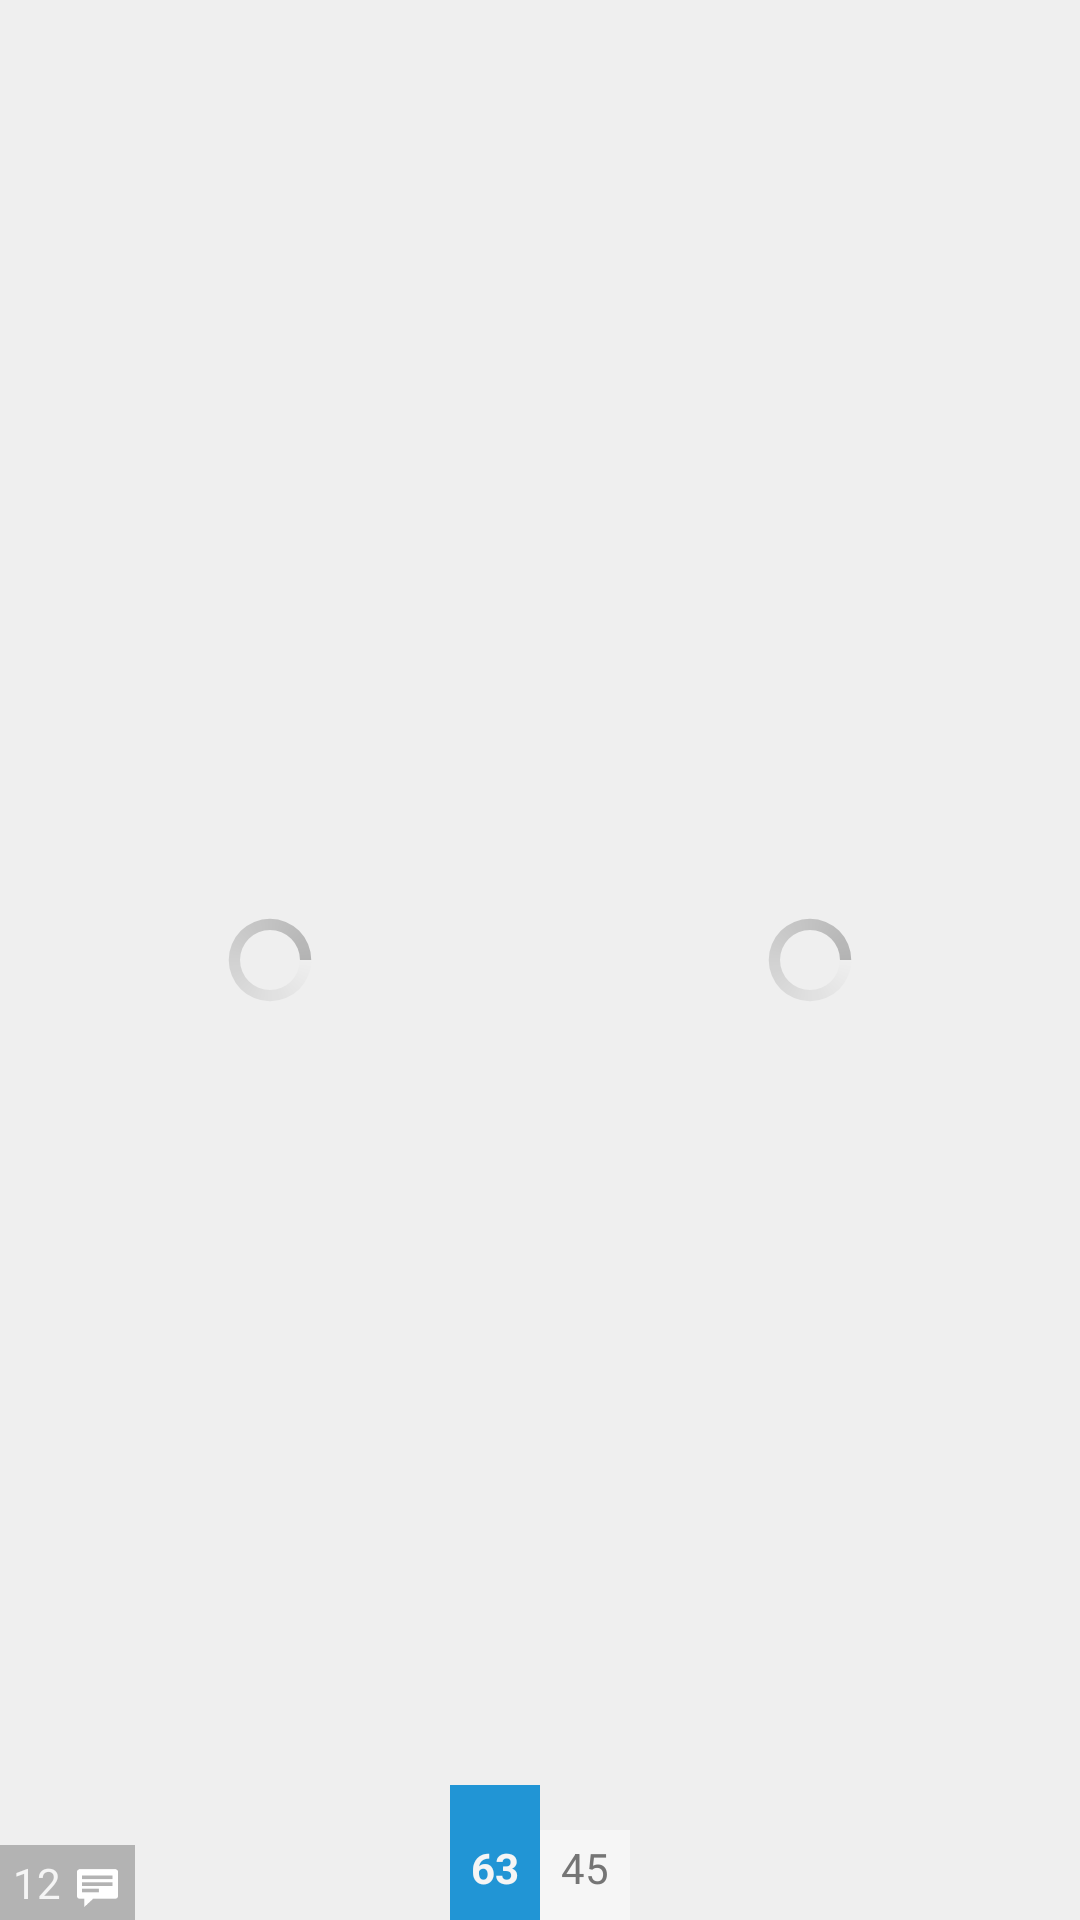

Icon click points for this 1080*1920 phone screenshot, format (x=x, y=y):
chat: (x=97, y=1888)
